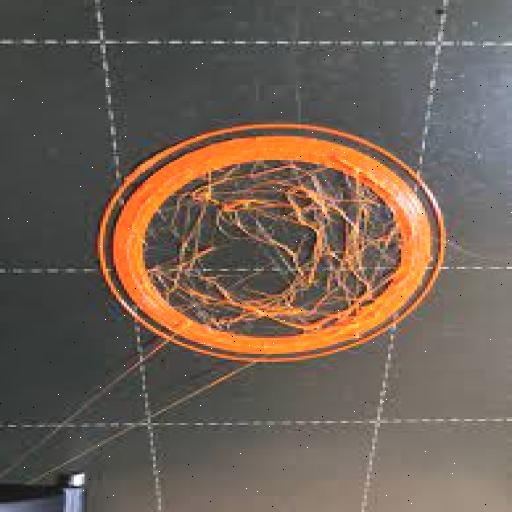spaghetti: (172, 166, 392, 328)
